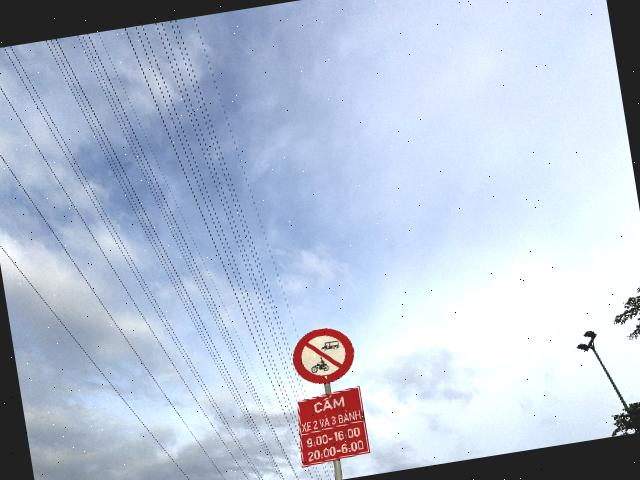cam-xe-2-banh-3-banh: (288, 323, 358, 388)
